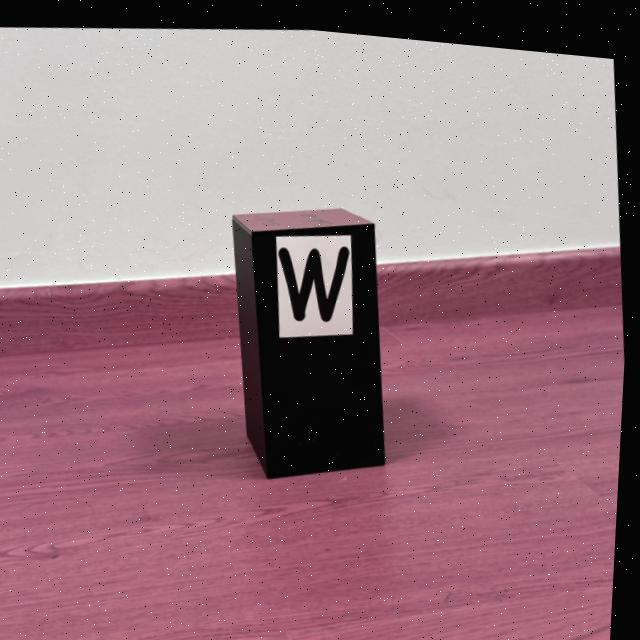W: (281, 238, 351, 314)
